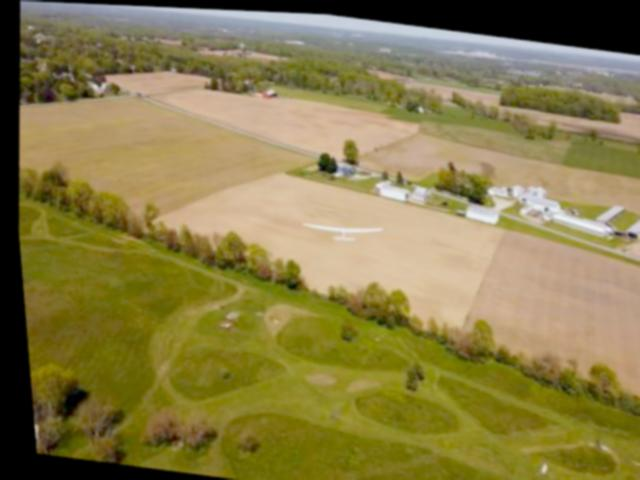uav: (286, 199, 388, 260)
